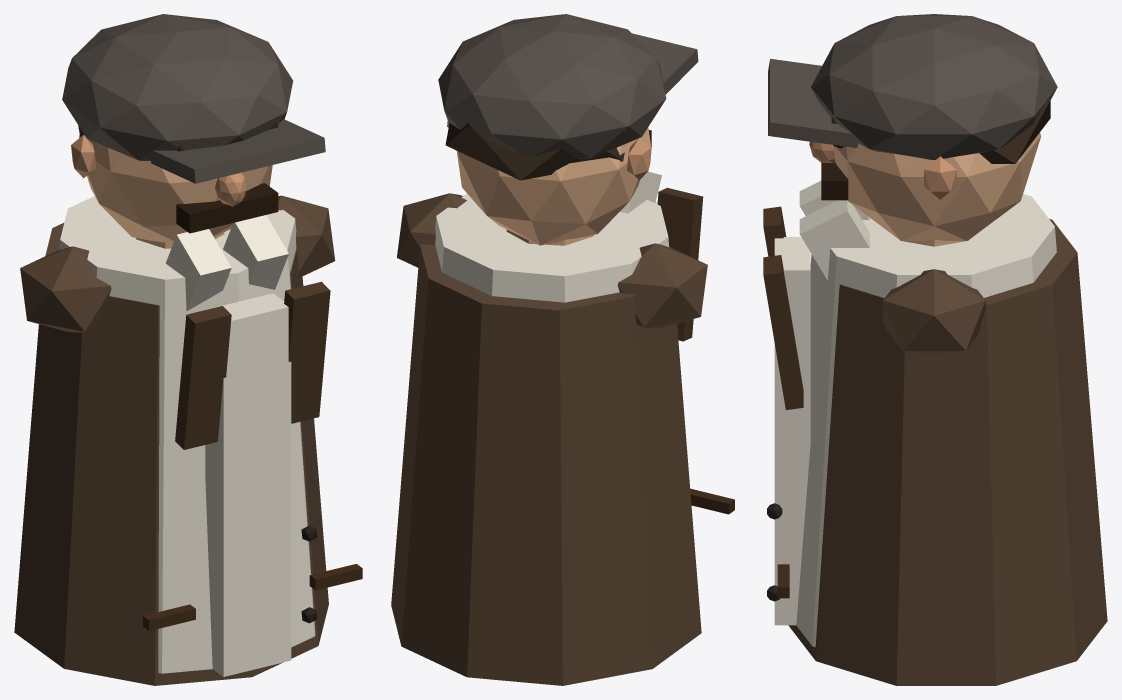
File: insan_e0k_govde.glb
3 renders of one model, left to right at view 1: azimuth 30°, elevation 25°; view 2: azimuth 150°, elevation 25°; view 3: azimuth 270°, elevation 25°, orthographic.
Visible parts, largest first — view 1: Cone; view 2: Cone; view 3: Cone.
Part boxes in pixels (bbox=[...]): Cone: bbox=[14, 14, 362, 685]; Cone: bbox=[391, 14, 734, 685]; Cone: bbox=[763, 14, 1107, 685].
Bounding box in the file's own units: 0.1158 × 0.217 × 0.1142.
